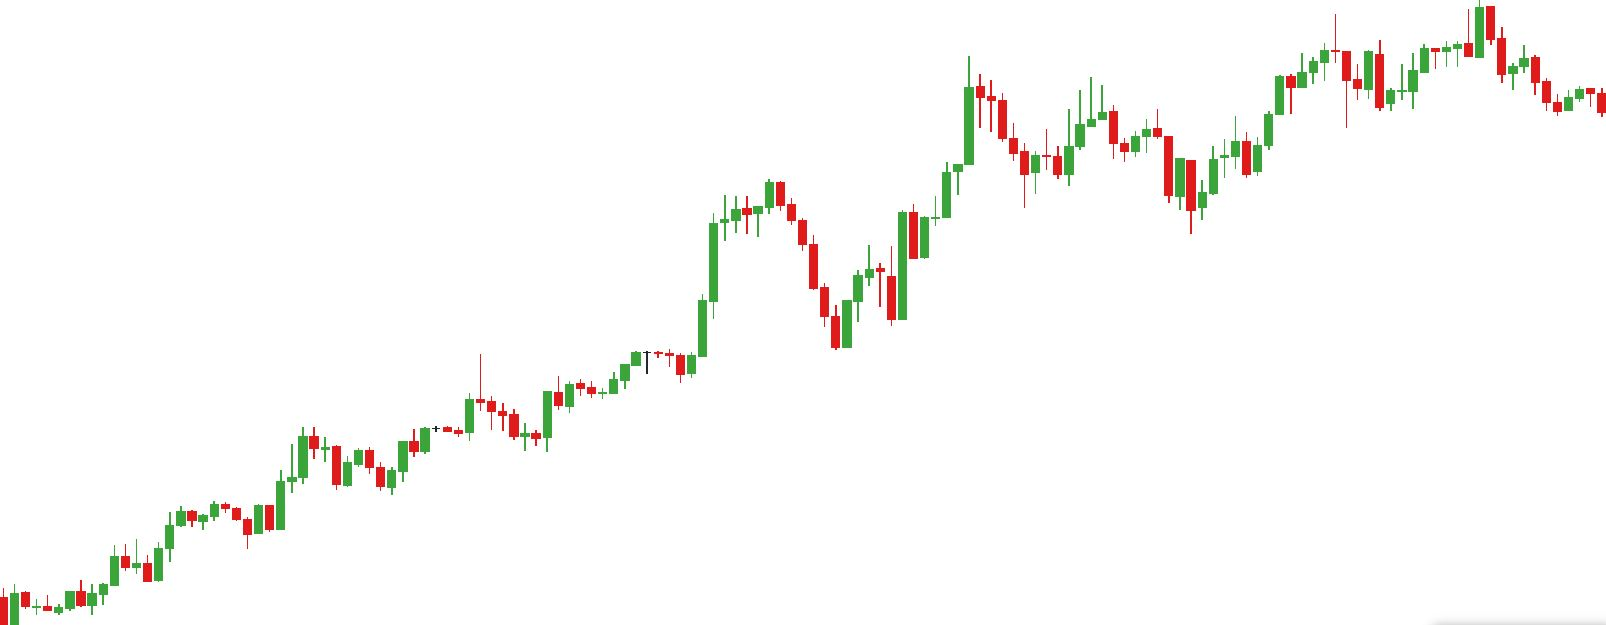buy: (1020, 125, 1187, 221), (462, 401, 530, 458), (329, 451, 396, 499)
